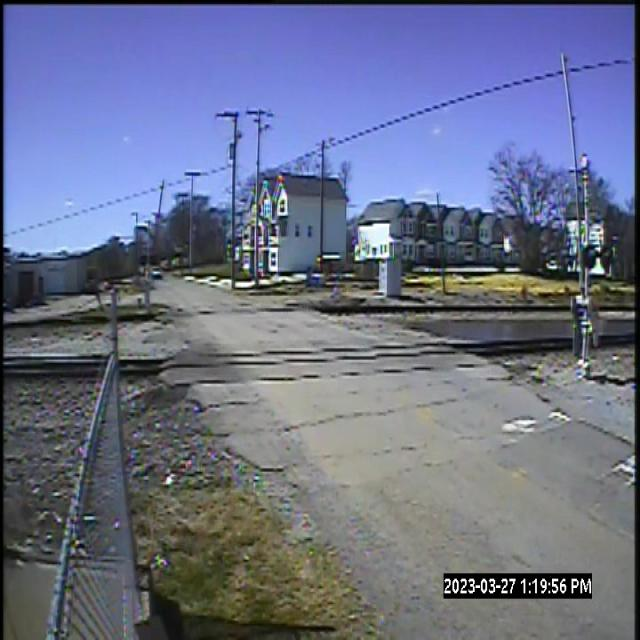barrier: (557, 39, 596, 237), (151, 174, 171, 252)
car: (153, 261, 163, 283)
rails: (3, 326, 639, 396), (5, 290, 640, 346)
traffic-signal: (568, 233, 613, 375), (137, 251, 158, 313)
